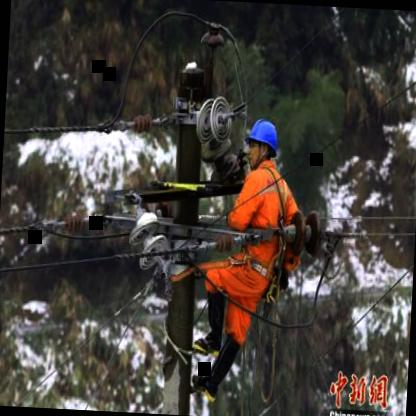helmet: (244, 114, 284, 174)
